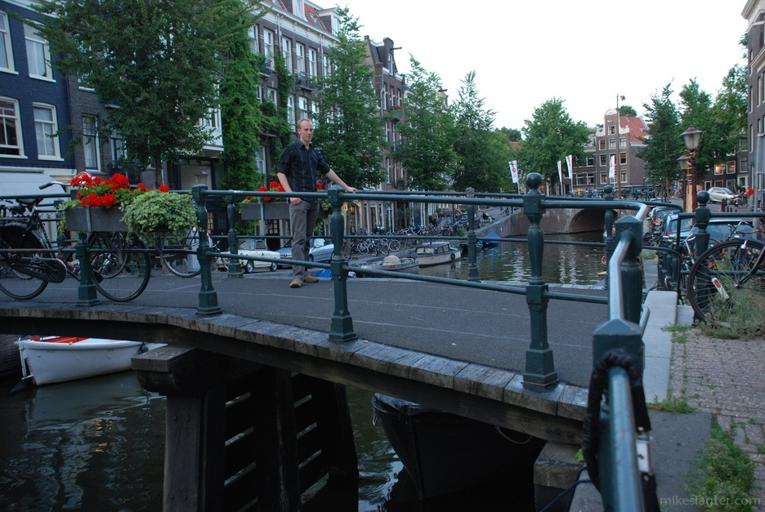non-vehicle: (0, 176, 154, 302), (688, 221, 764, 333), (82, 220, 214, 279)
